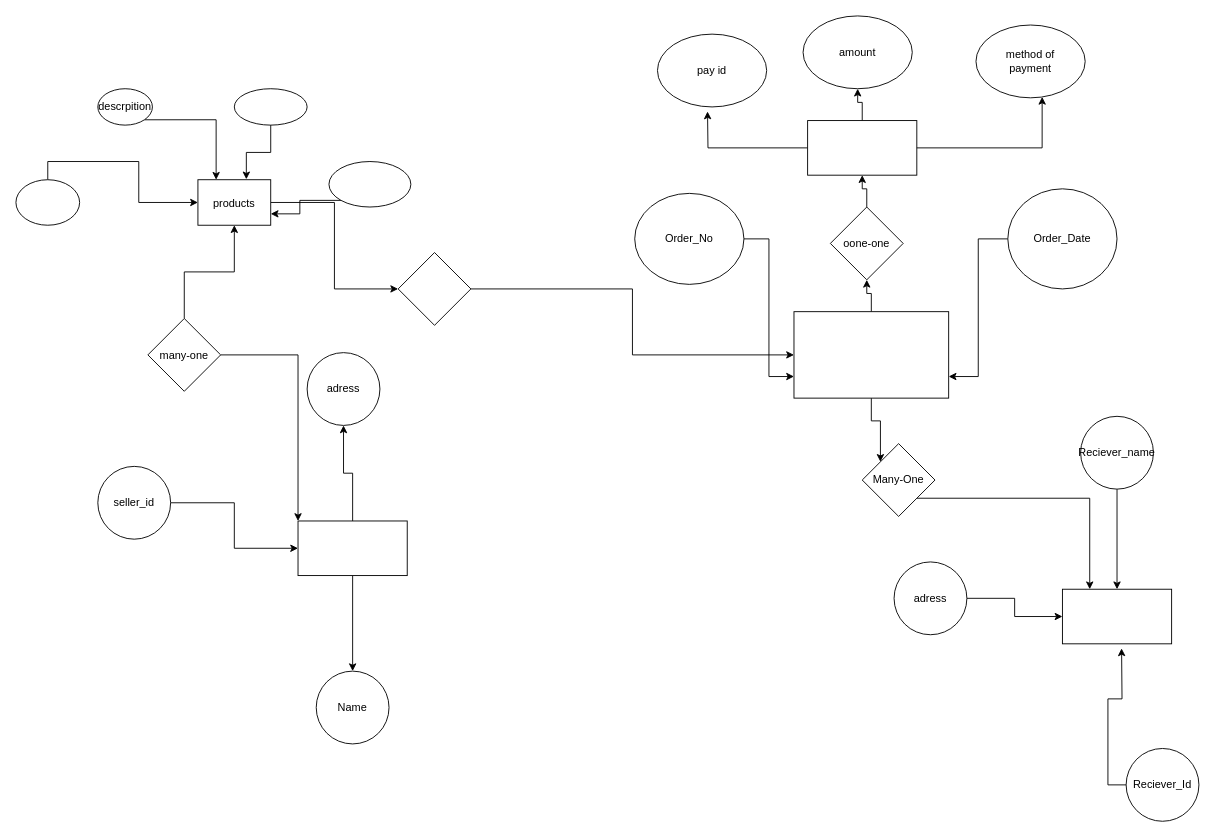
Image size: 1215x837. Some labels were removed from this diagram. The box of each missing label's shape, as (x1, y1, x2, y2) in pixels:
One-Many: (397, 252, 471, 325)
Orders: (793, 311, 949, 398)
payment: (807, 120, 917, 175)
picture: (15, 179, 80, 225)
Price: (233, 88, 307, 125)
product ID: (328, 161, 411, 207)
Recievers: (1062, 588, 1172, 644)
Seller: (297, 520, 407, 576)
